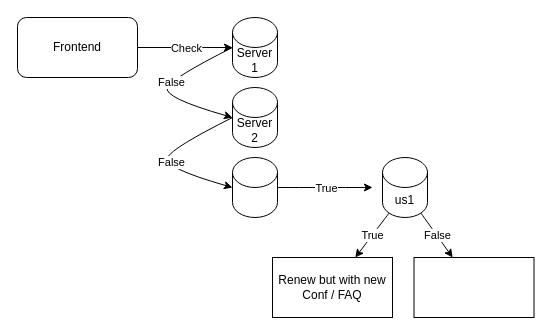
Some shapes in this 552 by 335 pixel diagram are drawn without their labels. The shapes that lost their labels are listed below. From the top down, each one's centre as x and y in pixels, then its label:
At (x=255, y=187): "us3".
At (x=473, y=287): "Just Renew".
